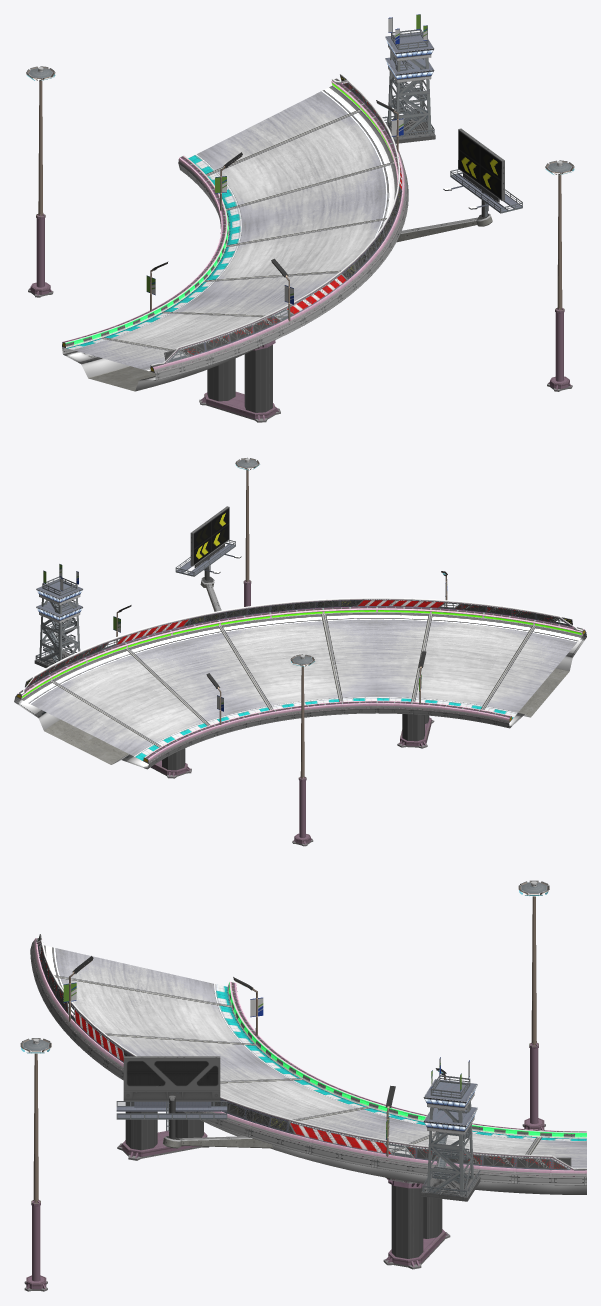
3 views of the same model, one above another, from view 1: azimuth 30°, elevation 25°; view 2: azimuth 150°, elevation 25°; view 3: azimuth 270°, elevation 25° (orthographic). The views are drawn at different scales.
Parts seen in each view (by area): view 1: standard_road, wall_drift, standard_bridge, standard_arrow_lefts, pro_stewards_tower, prop_billboard_left, support_pylon_1, banking_middle_lines, support_ground_1, pro_floodlight_overhead, pro_floodlight_overhead__2_, tower_attachment (+3 smaller); view 2: standard_road, wall_drift, standard_bridge, standard_arrow_lefts, pro_stewards_tower, prop_billboard_left, banking_middle_lines, pro_floodlight_overhead, pro_floodlight_overhead__2_, support_pylon_1; view 3: standard_road, wall_drift, prop_billboard_left, standard_bridge, standard_arrow_lefts, pro_stewards_tower, support_pylon, support_pylon_1, banking_middle_lines, pro_floodlight_overhead, pro_floodlight_overhead__2_, tower_attachment (+5 smaller).
Boxes of the visible parts, x1=… form: standard_road: x1=66, y1=85, x2=397, y2=371; wall_drift: x1=62, y1=81, x2=406, y2=372; standard_bridge: x1=62, y1=163, x2=408, y2=391; standard_arrow_lefts: x1=150, y1=74, x2=402, y2=366; pro_stewards_tower: x1=385, y1=14, x2=434, y2=137; prop_billboard_left: x1=443, y1=128, x2=522, y2=217; support_pylon_1: x1=207, y1=345, x2=272, y2=412; banking_middle_lines: x1=108, y1=114, x2=381, y2=352; support_ground_1: x1=199, y1=391, x2=280, y2=422; pro_floodlight_overhead: x1=26, y1=66, x2=55, y2=215; pro_floodlight_overhead__2_: x1=545, y1=160, x2=574, y2=310; tower_attachment: x1=397, y1=213, x2=492, y2=242; standard_road: x1=21, y1=612, x2=582, y2=760; wall_drift: x1=15, y1=606, x2=585, y2=763; standard_bridge: x1=14, y1=632, x2=586, y2=769; standard_arrow_lefts: x1=19, y1=597, x2=583, y2=695; pro_stewards_tower: x1=36, y1=564, x2=82, y2=662; prop_billboard_left: x1=175, y1=506, x2=241, y2=580; banking_middle_lines: x1=59, y1=621, x2=531, y2=743; pro_floodlight_overhead: x1=290, y1=654, x2=314, y2=778; pro_floodlight_overhead__2_: x1=235, y1=457, x2=259, y2=581; support_pylon_1: x1=402, y1=714, x2=429, y2=741; standard_road: x1=44, y1=945, x2=586, y2=1169; wall_drift: x1=32, y1=938, x2=586, y2=1176; prop_billboard_left: x1=116, y1=1056, x2=227, y2=1138; standard_bridge: x1=30, y1=943, x2=586, y2=1194; standard_arrow_lefts: x1=36, y1=934, x2=586, y2=1170; pro_stewards_tower: x1=423, y1=1057, x2=477, y2=1195; support_pylon: x1=391, y1=1185, x2=442, y2=1258; support_pylon_1: x1=125, y1=1102, x2=203, y2=1150; banking_middle_lines: x1=60, y1=976, x2=540, y2=1157; pro_floodlight_overhead: x1=518, y1=880, x2=549, y2=1045; pro_floodlight_overhead__2_: x1=20, y1=1038, x2=51, y2=1202; tower_attachment: x1=163, y1=1136, x2=272, y2=1148.
Size of the model in its own units: 12603 by 5784 by 12161.
